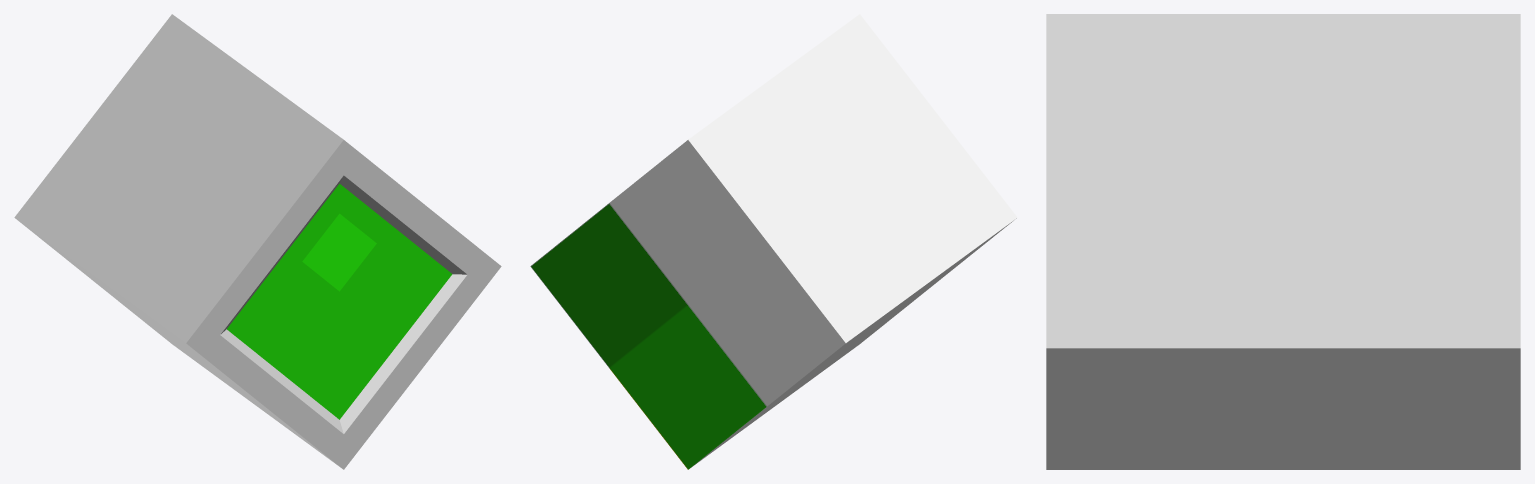
Rendered from D_FBX_06_Bumper_01.fbx.
3 views of the same model, side by side, from view 1: azimuth 30°, elevation 25°; view 2: azimuth 150°, elevation 25°; view 3: azimuth 270°, elevation 25° (orthographic). The views are drawn at different scales.
Visible parts, largest first — view 1: D_FBX_06_Bumper_01; view 2: D_FBX_06_Bumper_01; view 3: D_FBX_06_Bumper_01.
Part boxes in pixels (left/top/right/bottom): D_FBX_06_Bumper_01: left=14, top=14, right=501, bottom=469; D_FBX_06_Bumper_01: left=530, top=14, right=1017, bottom=469; D_FBX_06_Bumper_01: left=1046, top=14, right=1520, bottom=469.
Bounding box in the file's own units: 191 × 191 × 180.
